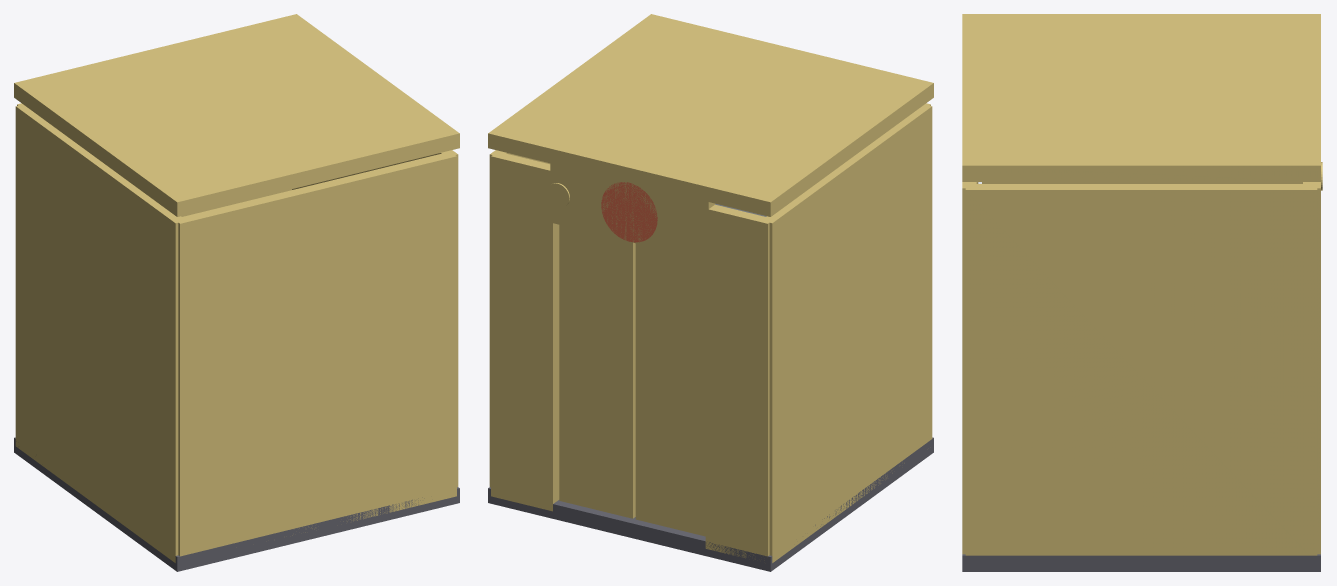
File: elevator_cage.fbx
The picture shows the model from 3 angles, left to right: view 1: azimuth 30°, elevation 25°; view 2: azimuth 150°, elevation 25°; view 3: azimuth 270°, elevation 25°; orthographic projection. The views are drawn at different scales.
Parts seen in each view (by area): view 1: ElevatorWall_Back, ElevatorWall_Left, ElevatorCeiling, ElevatorFloor, ElevatorWall_Right; view 2: ElevatorWall_Left, ElevatorCeiling, FrontFrame_Right, FrontFrame_Left, SlidingDoor_Right, SlidingDoor_Left, FrontFrame_Top, ElevatorFloor, FloorIndicatorDial, ElevatorWall_Right; view 3: ElevatorWall_Right, ElevatorCeiling, ElevatorFloor, ElevatorWall_Back, FrontFrame_Right, ElevatorWall_Left.
Boxes of the visible parts, x1,y1,x2,y2 form: ElevatorWall_Back: [174, 151, 456, 556]; ElevatorWall_Left: [15, 105, 186, 562]; ElevatorCeiling: [14, 14, 459, 216]; ElevatorFloor: [14, 437, 459, 571]; ElevatorWall_Right: [292, 150, 458, 487]; ElevatorWall_Left: [761, 105, 932, 562]; ElevatorCeiling: [488, 14, 933, 216]; FrontFrame_Right: [491, 153, 559, 511]; FrontFrame_Left: [705, 204, 769, 560]; SlidingDoor_Right: [559, 225, 635, 518]; SlidingDoor_Left: [635, 243, 705, 536]; FrontFrame_Top: [550, 163, 714, 260]; ElevatorFloor: [488, 437, 933, 571]; FloorIndicatorDial: [601, 182, 657, 242]; ElevatorWall_Right: [489, 150, 550, 487]; ElevatorWall_Right: [965, 184, 1317, 555]; ElevatorCeiling: [962, 14, 1320, 181]; ElevatorFloor: [962, 554, 1320, 571]; ElevatorWall_Back: [962, 182, 976, 554]; FrontFrame_Right: [1306, 182, 1320, 554]; ElevatorWall_Left: [976, 182, 1302, 183].
Bounding box in the file's own units: 10 × 12.5 × 10.05.
